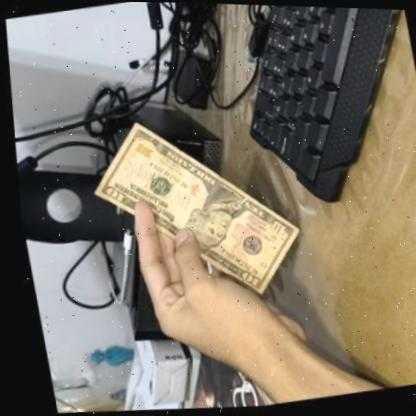ten-front: (70, 97, 311, 326)
